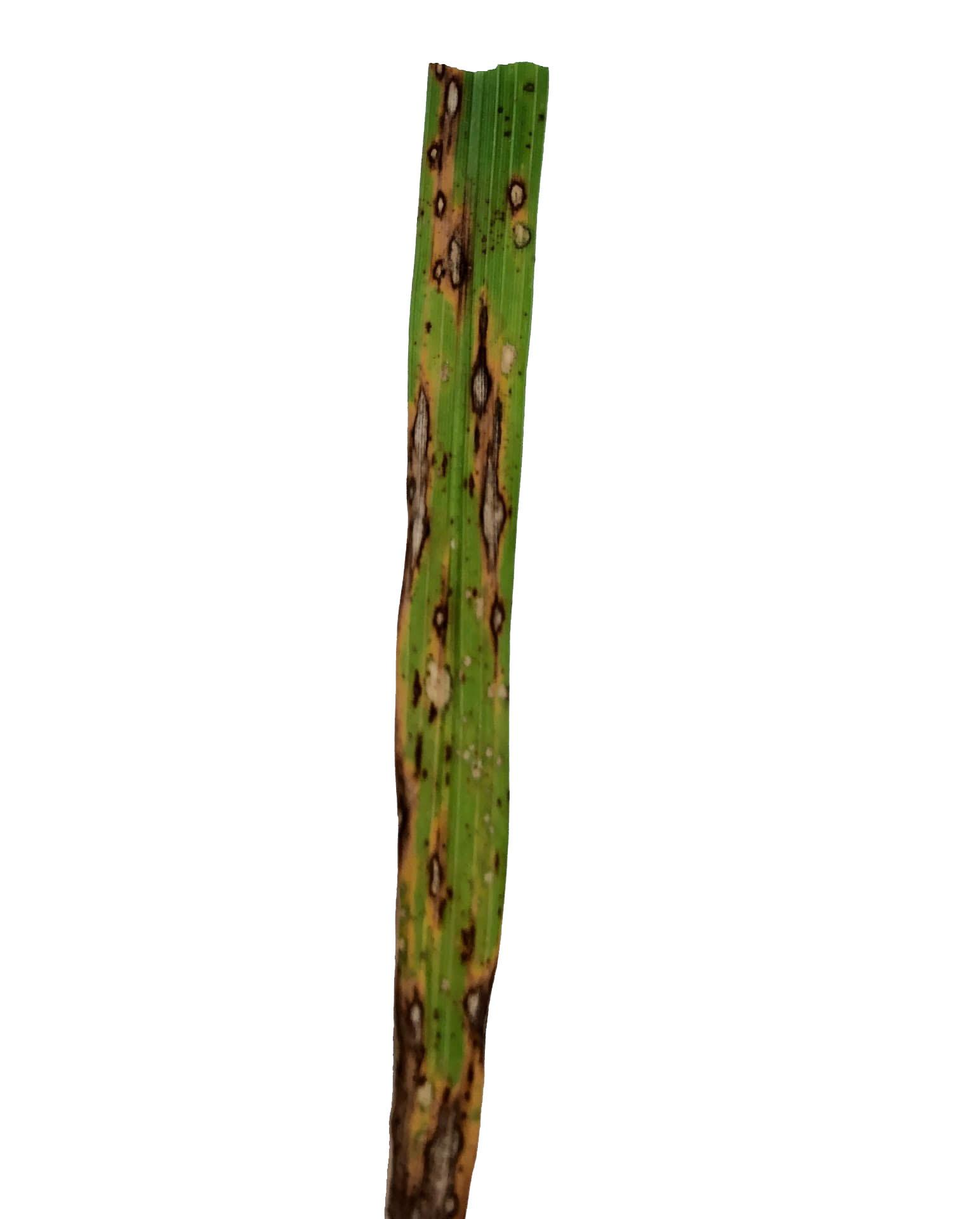Rice blast: (404, 1066, 466, 1218), (473, 390, 513, 585), (457, 279, 496, 460), (416, 838, 486, 933), (425, 62, 474, 179), (409, 649, 474, 736), (396, 984, 431, 1119), (409, 386, 429, 581), (437, 229, 478, 300), (459, 969, 486, 1061), (478, 590, 511, 659), (500, 173, 528, 214), (510, 213, 534, 259)
